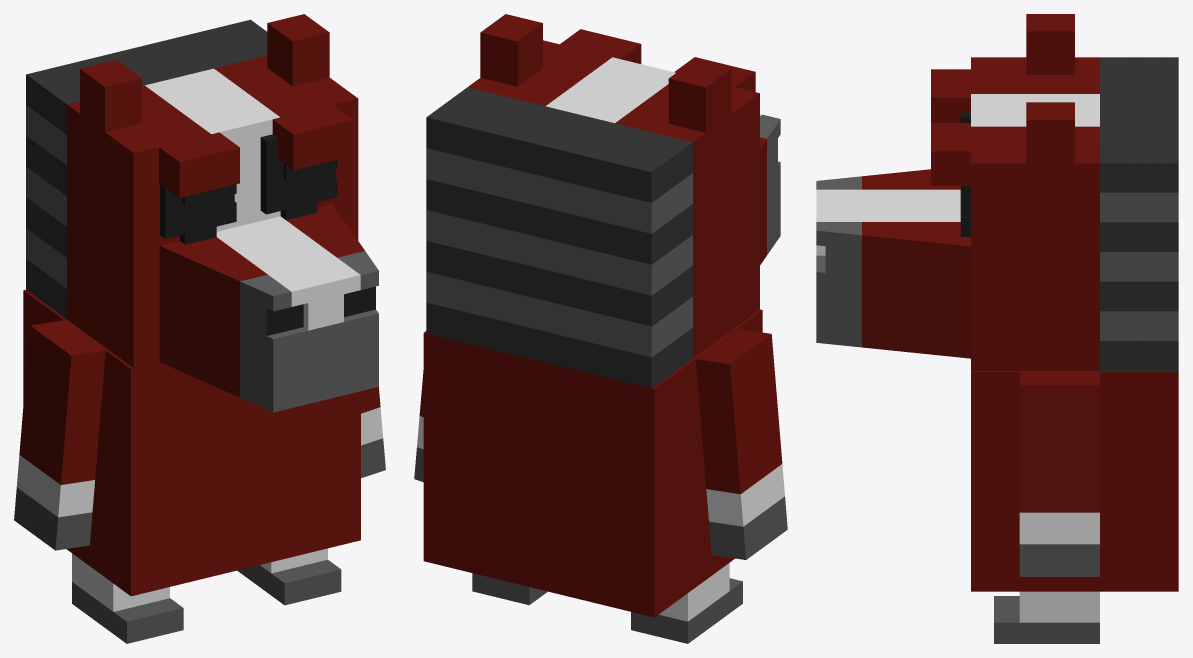
3 views of the same model, side by side, from view 1: azimuth 30°, elevation 25°; view 2: azimuth 150°, elevation 25°; view 3: azimuth 270°, elevation 25° (orthographic). The views are drawn at different scales.
Visible parts, largest first — view 1: Ch_31_Head, Ch_31, Ch_31_Hand_L, Ch_31_Eyebrow, Ch_31_Leg_L, Ch_31_Leg_R, Ch_31_Eye_01, Ch_31_Eye_03_R, Ch_31_Hand_R, Ch_31_Eye_02, Ch_31_Eye_03_L; view 2: Ch_31_Head, Ch_31, Ch_31_Hand_L, Ch_31_Leg_L, Ch_31_Eyebrow, Ch_31_Leg_R, Ch_31_Hand_R; view 3: Ch_31_Head, Ch_31, Ch_31_Hand_R, Ch_31_Leg_R, Ch_31_Eyebrow.
Part boxes in pixels (x1=…): Ch_31_Head: x1=26, y1=14, x2=378, y2=412; Ch_31: x1=23, y1=289, x2=360, y2=596; Ch_31_Hand_L: x1=14, y1=320, x2=105, y2=550; Ch_31_Eyebrow: x1=159, y1=104, x2=353, y2=197; Ch_31_Leg_L: x1=72, y1=553, x2=183, y2=643; Ch_31_Leg_R: x1=237, y1=548, x2=341, y2=605; Ch_31_Eye_01: x1=179, y1=163, x2=317, y2=244; Ch_31_Eye_03_R: x1=260, y1=134, x2=337, y2=214; Ch_31_Hand_R: x1=361, y1=387, x2=385, y2=478; Ch_31_Eye_02: x1=167, y1=169, x2=335, y2=228; Ch_31_Eye_03_L: x1=160, y1=184, x2=236, y2=238; Ch_31_Head: x1=426, y1=14, x2=780, y2=388; Ch_31: x1=423, y1=309, x2=762, y2=617; Ch_31_Hand_L: x1=695, y1=328, x2=787, y2=559; Ch_31_Leg_L: x1=631, y1=563, x2=742, y2=643; Ch_31_Eyebrow: x1=560, y1=29, x2=755, y2=91; Ch_31_Leg_R: x1=472, y1=573, x2=547, y2=605; Ch_31_Hand_R: x1=414, y1=370, x2=423, y2=482; Ch_31_Head: x1=816, y1=14, x2=1178, y2=370; Ch_31: x1=971, y1=371, x2=1178, y2=591; Ch_31_Hand_R: x1=1019, y1=372, x2=1099, y2=576; Ch_31_Leg_R: x1=994, y1=591, x2=1099, y2=643; Ch_31_Eyebrow: x1=931, y1=69, x2=970, y2=185.
Bounding box in the file's own units: 7.73 × 12.2 × 7.61.
